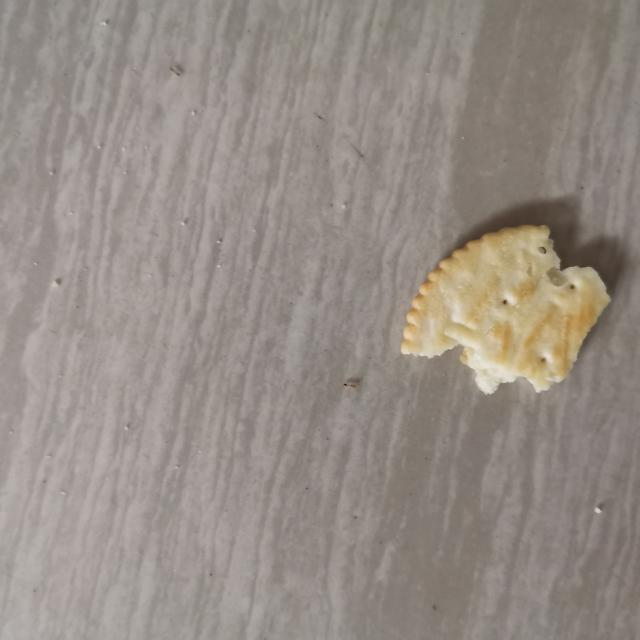Broken: (400, 222, 611, 396)
